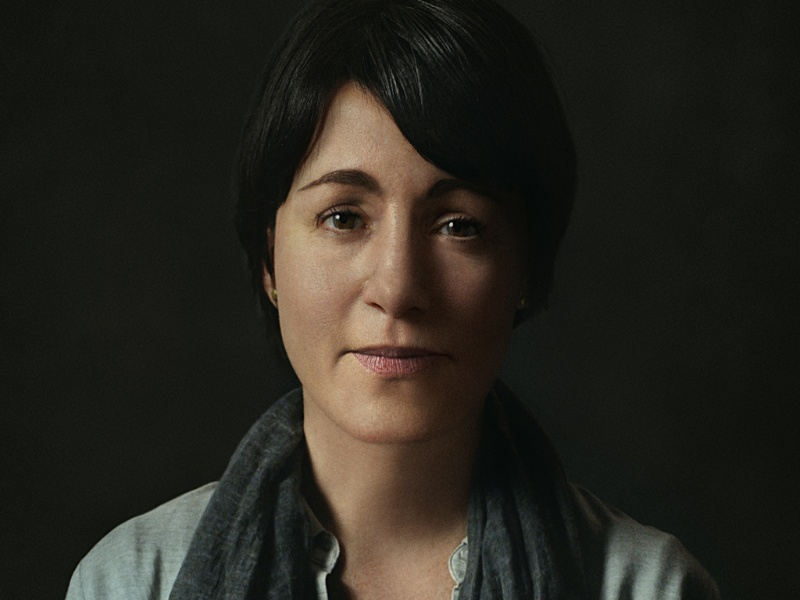face: (299, 162, 505, 412)
